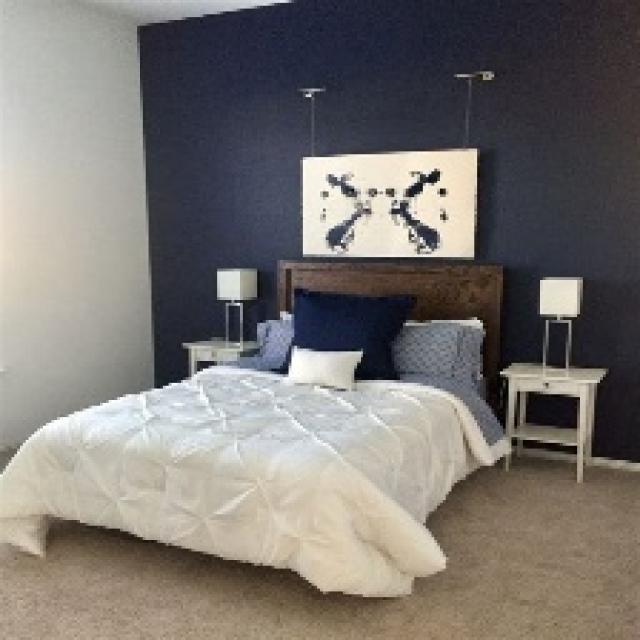Bed: (0, 257, 511, 597)
